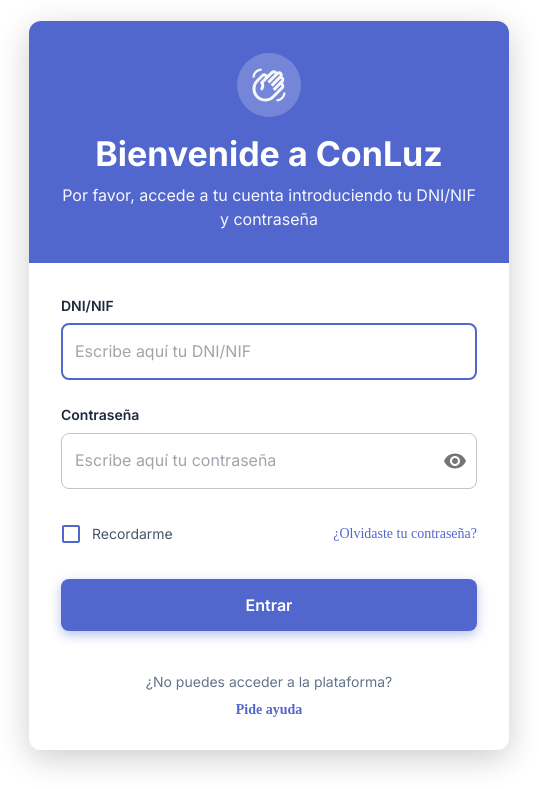
Test: Login component › when the login is throttled (429) › says how many minutes to wait, from params.retryAfterSeconds
The image size is (539, 789).
Type "1234567Z" into the field with placeholder "Escribe aquí tu DNI/NIF" at {"x": 269, "y": 352}, box [61,324,477,380]
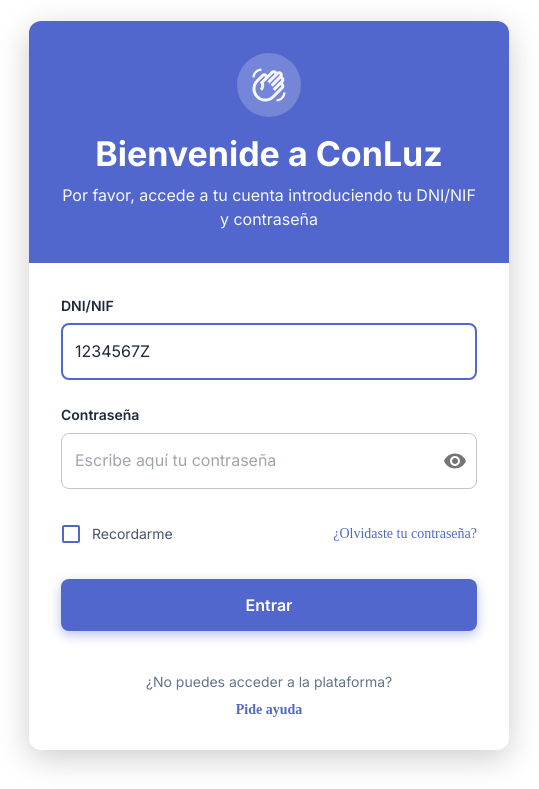
Click the password field with placeholder "Escribe aquí tu contraseña" at {"x": 244, "y": 461}, box [61,433,427,489]
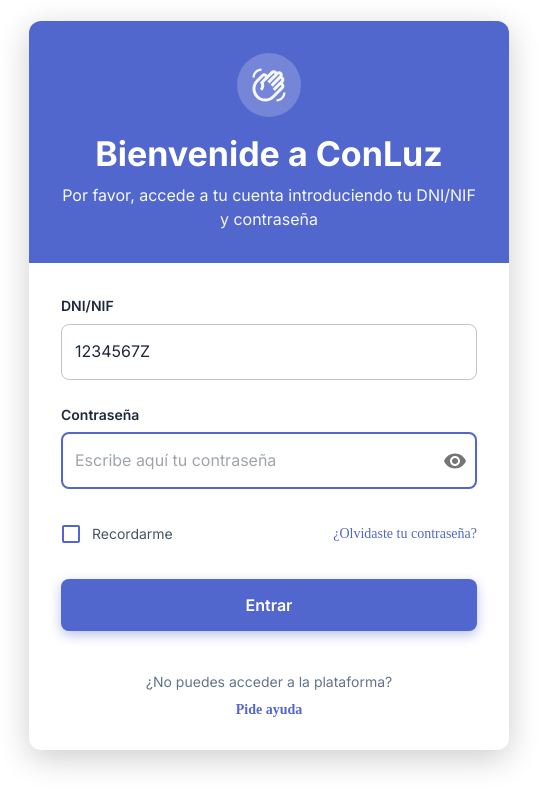
Type keys "una contraseña cualquiera"
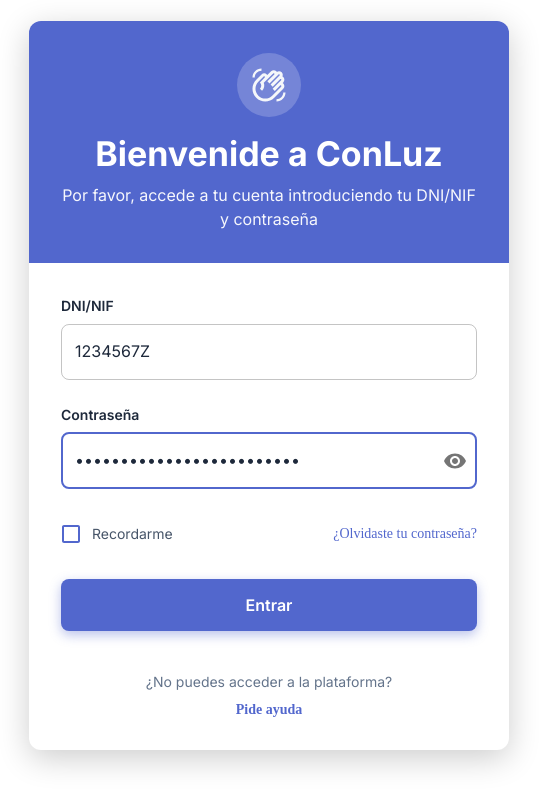
Click the button "Entrar" at {"x": 269, "y": 605}, box [61,579,477,631]
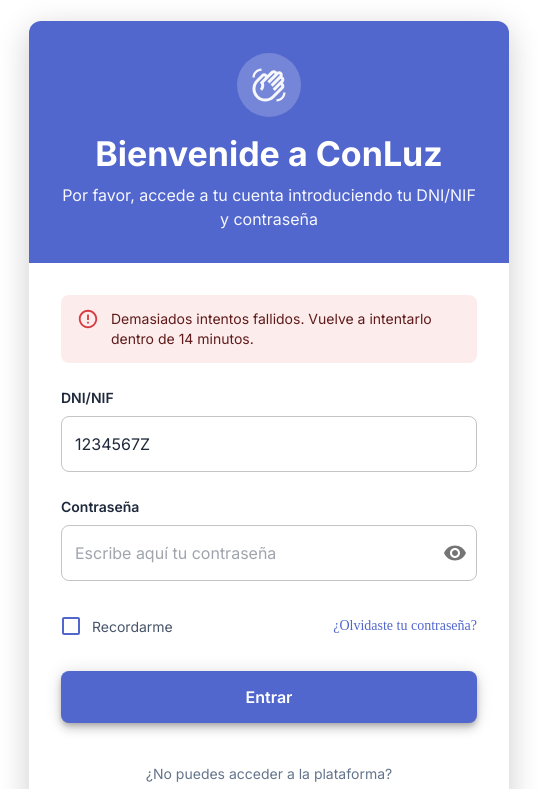
Check: the message reads "Demasiados intentos fallidos. Vuelve a intentarlo dentro de 14 minutos.", box [111,310,432,347]
